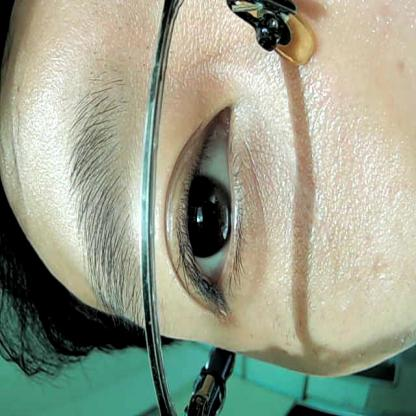Straight: (165, 92, 258, 342)
